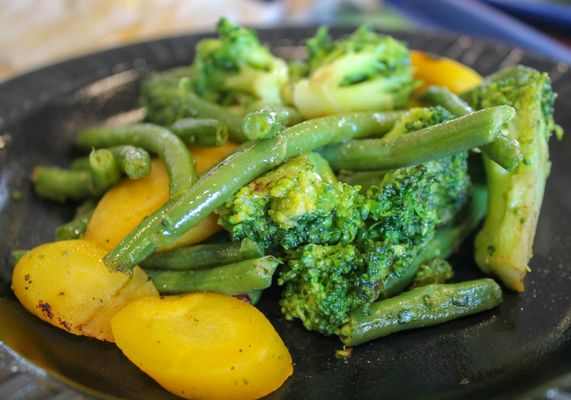curry: (40, 21, 565, 349), (460, 64, 562, 293)
